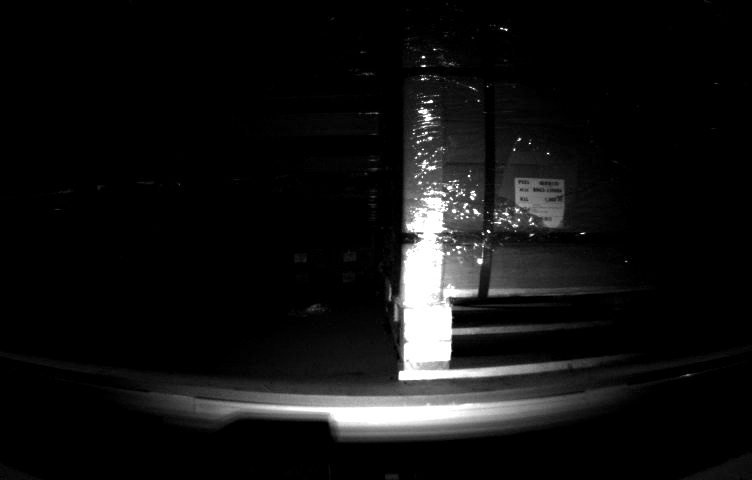True Barcode: (511, 175, 568, 231)
